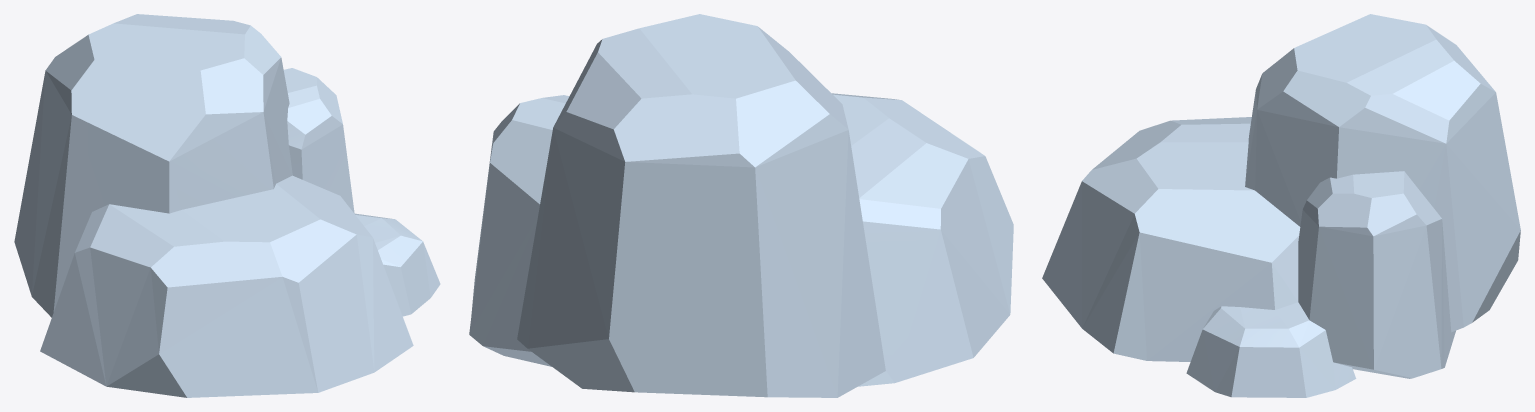
Rendered from rocahielo.glb.
The picture shows the model from 3 angles, left to right: view 1: azimuth 30°, elevation 25°; view 2: azimuth 150°, elevation 25°; view 3: azimuth 270°, elevation 25°; orthographic projection. The views are drawn at different scales.
Parts seen in each view (by area): view 1: crystal_16; view 2: crystal_16; view 3: crystal_16.
Boxes of the visible parts, x1,y1,x2,y2 form: crystal_16: [14, 14, 440, 397]; crystal_16: [469, 14, 1013, 397]; crystal_16: [1042, 14, 1520, 397].
Size of the model in its own units: 10.51 by 6.64 by 11.31.
